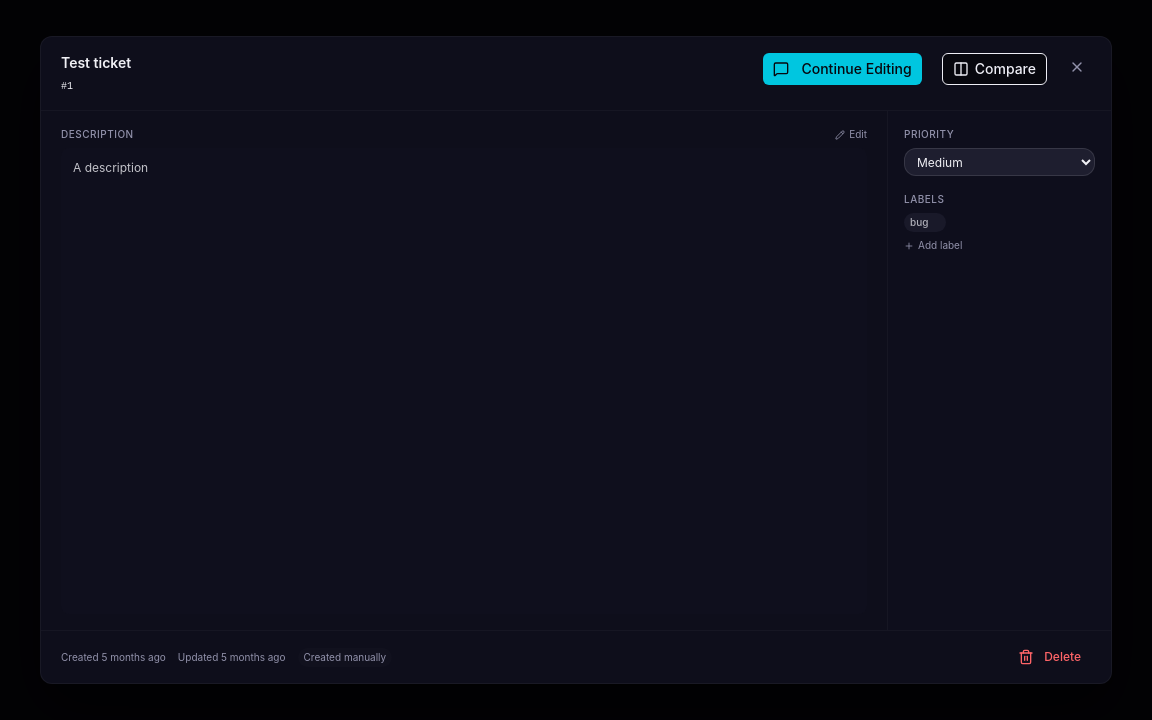
Test case: TicketDetailModal › title editing › restores original title on Escape key
Click the button "Test ticket" at point(96, 62), box [61,53,740,73]
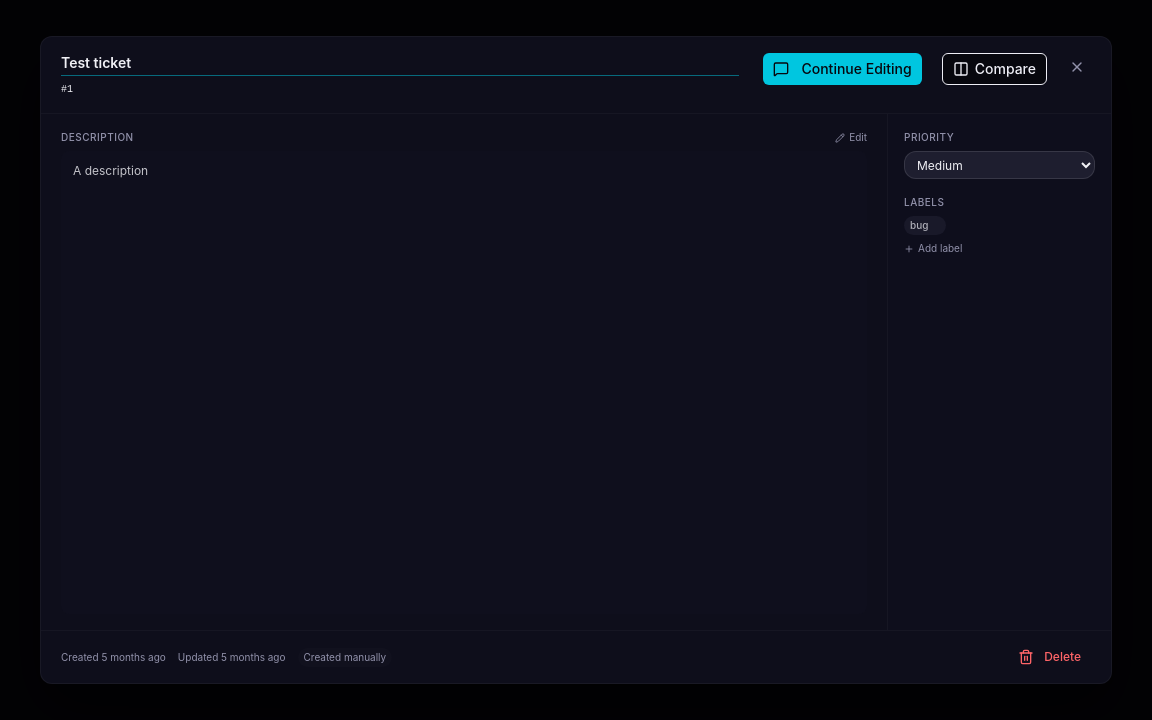
Replace the text in the field showing "Test ticket" with "Changed title" at point(400, 64), box [61,53,740,76]
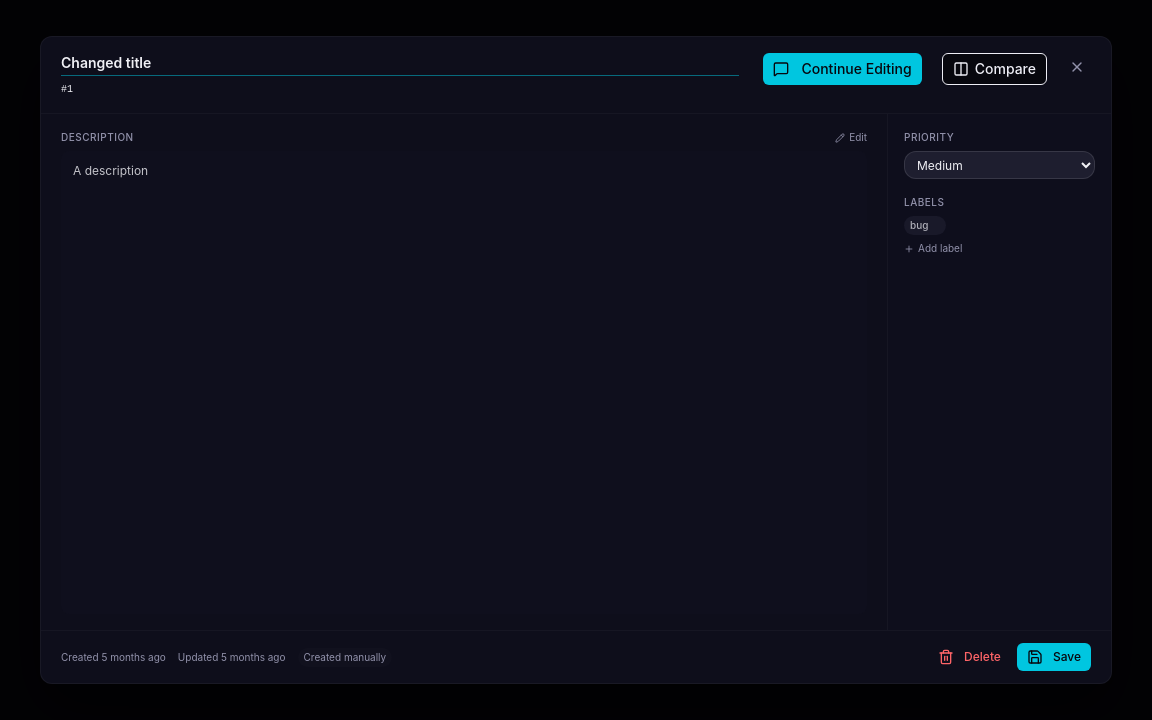
Press Escape in the field showing "Test ticket", box [61,53,740,76]
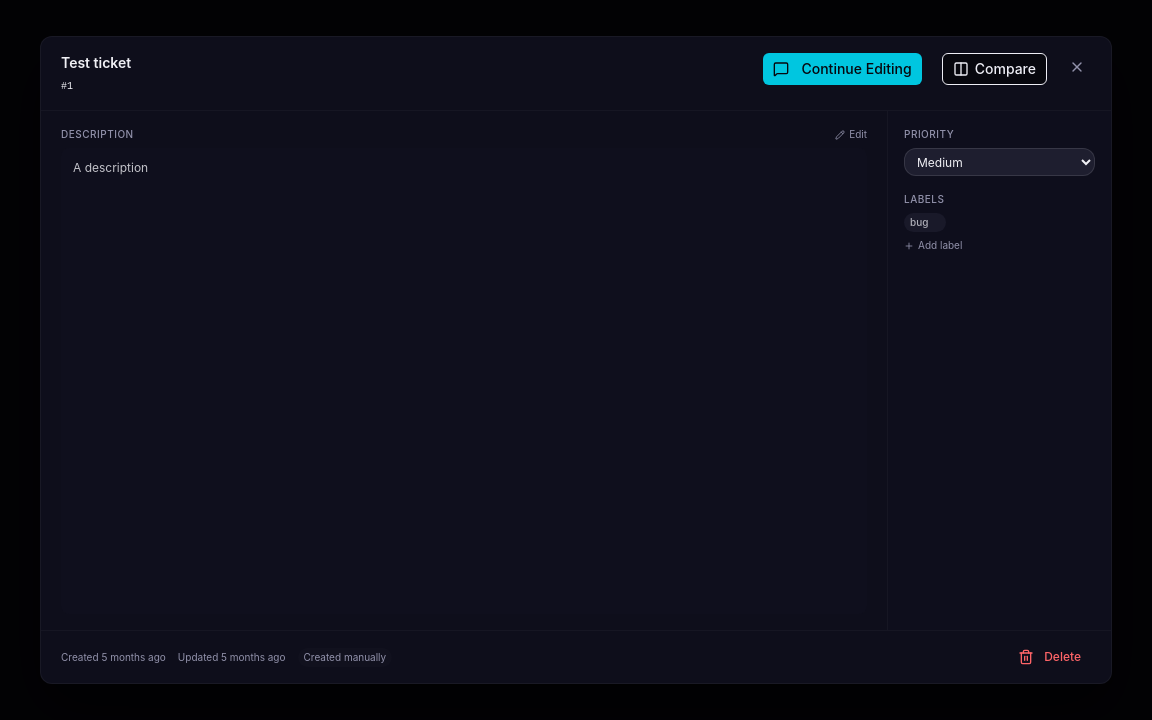
Now the heading "Test ticket" is shown, box [61,53,131,73]
